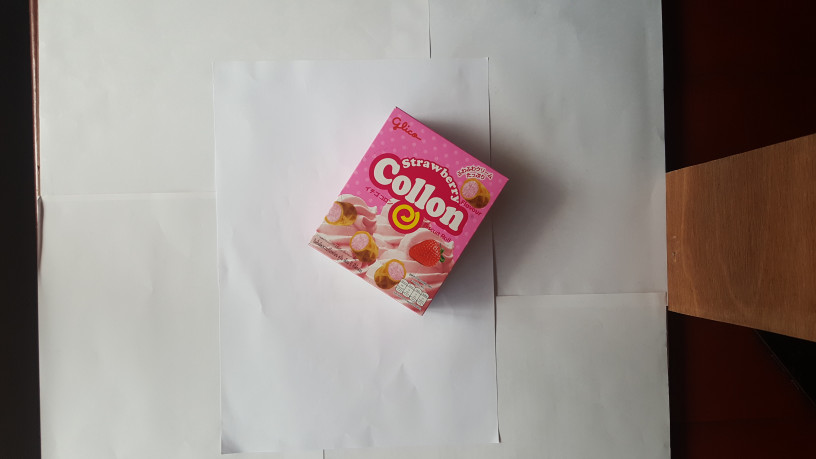collon-strawberry: (308, 104, 505, 319)
